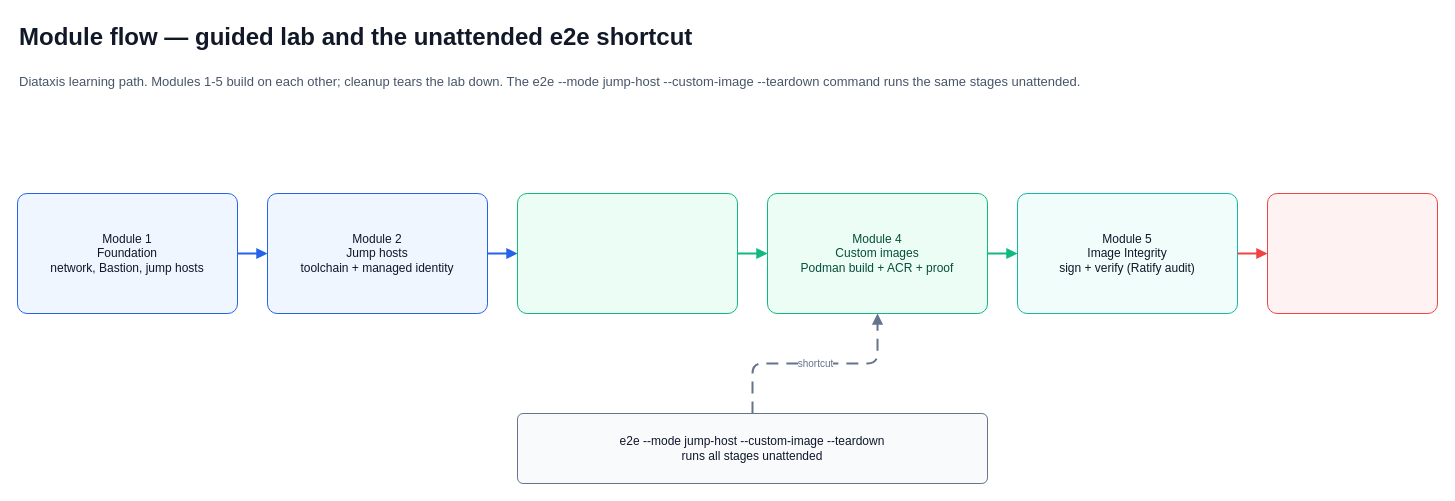
Some shapes in this 1455 by 501 pixel diagram are drawn without their labels. Here are the shapes that lost their labels. From the top down, the centre of each, then its label:
At (x=627, y=253): "Module 3 Lab workload private AKS, ACR, proofs".
At (x=1352, y=253): "Clean up drain + destroy".
